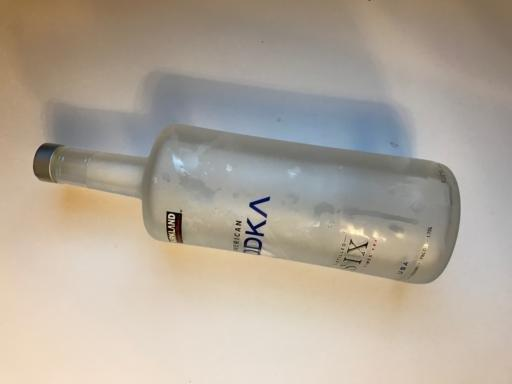botolkaca: (32, 122, 460, 284)
